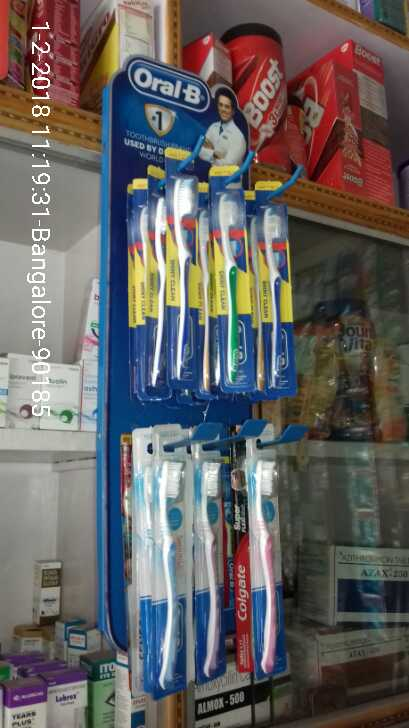oralb: (208, 163, 257, 391), (162, 143, 204, 384), (254, 181, 299, 395)
